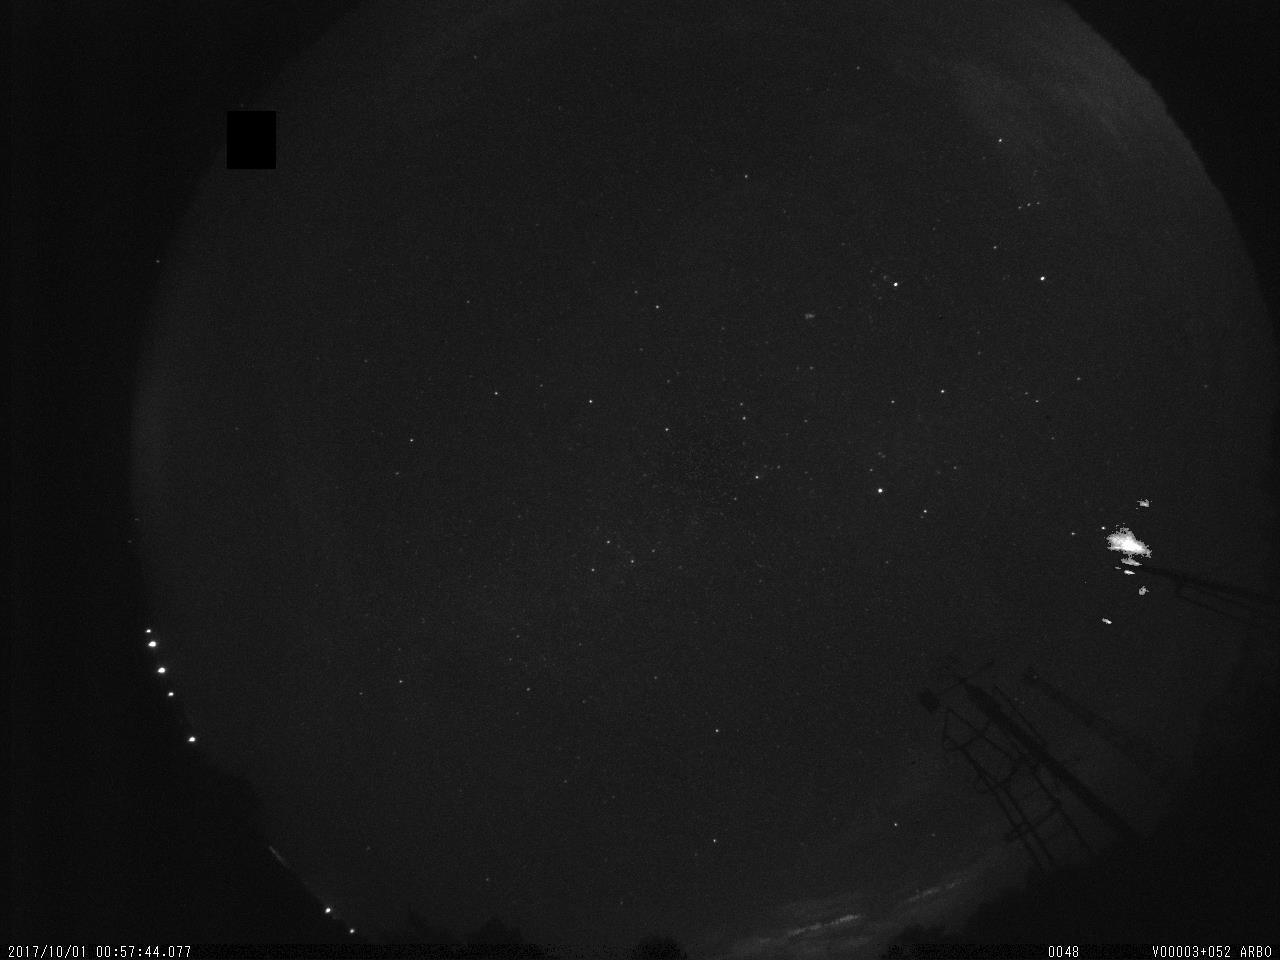TLE: (1082, 482, 1170, 680)
